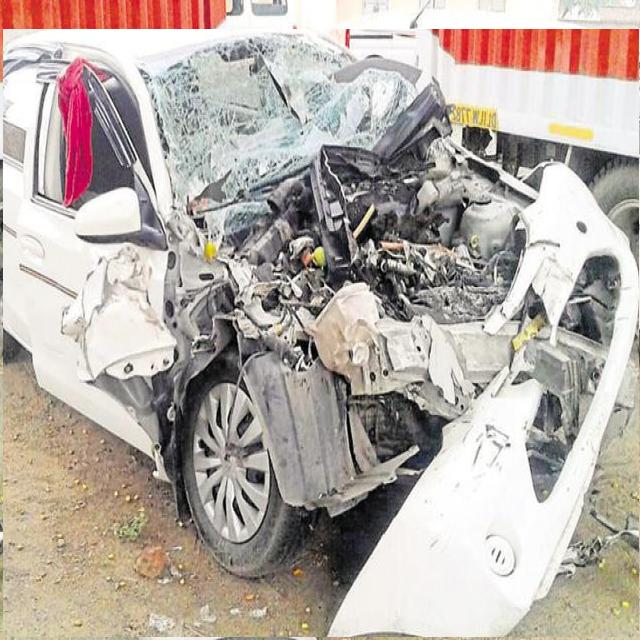accident: (4, 30, 639, 637)
